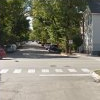crosswalk: (0, 67, 91, 74)
